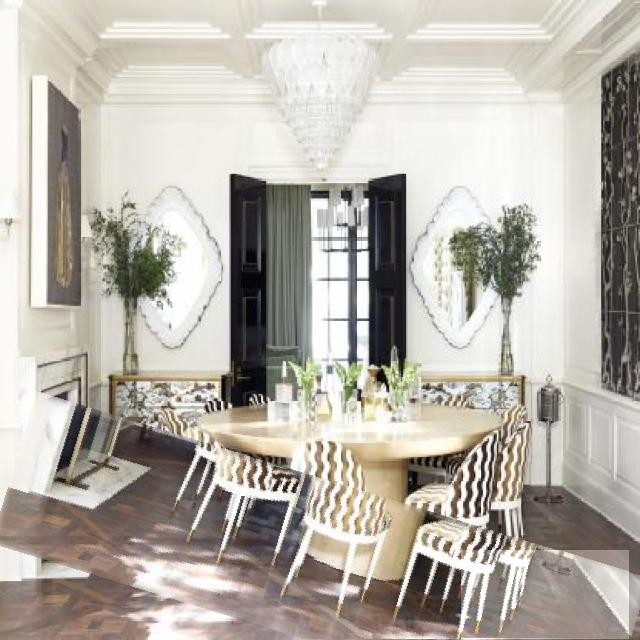floor: (0, 422, 465, 640), (461, 551, 629, 639)
